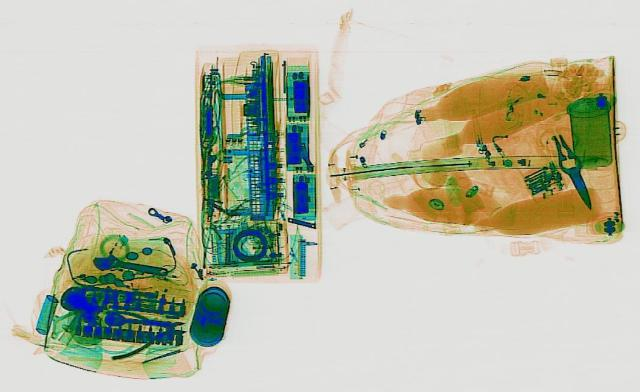Pliers: (104, 305, 190, 357), (545, 133, 601, 209)
Wrench: (86, 249, 172, 283)
